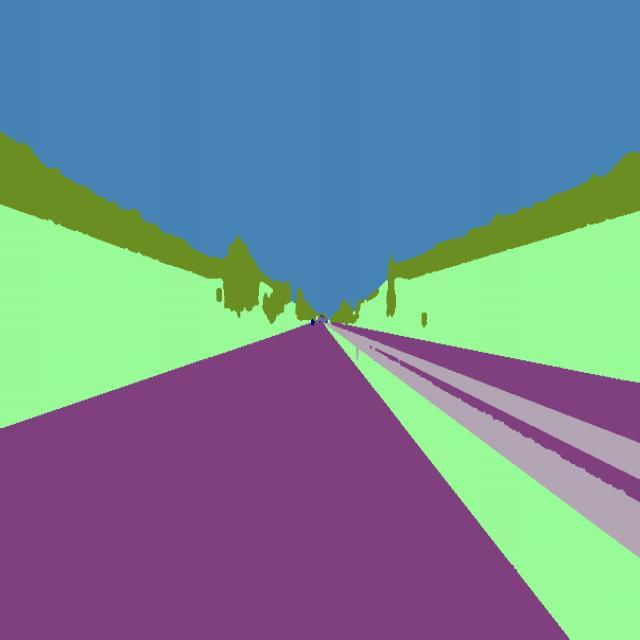safe: (310, 318, 316, 327)
